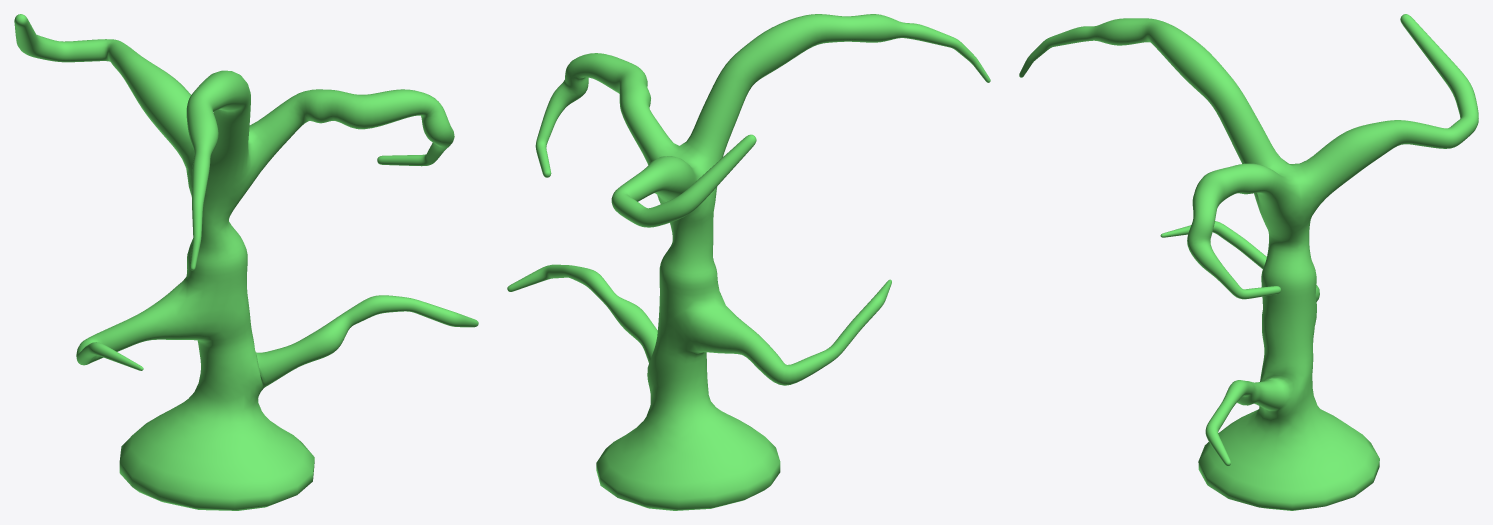
File: treeVariant.fbx
3 renders of one model, left to right at view 1: azimuth 30°, elevation 25°; view 2: azimuth 150°, elevation 25°; view 3: azimuth 270°, elevation 25°, orthographic. The views are drawn at different scales.
Visible parts, largest first — view 1: Plane; view 2: Plane; view 3: Plane.
Boxes of the visible parts, x1=… form: Plane: x1=14, y1=14, x2=478, y2=510; Plane: x1=507, y1=14, x2=990, y2=510; Plane: x1=1019, y1=14, x2=1478, y2=510.
Bounding box in the file's own units: 338 × 378 × 371.
